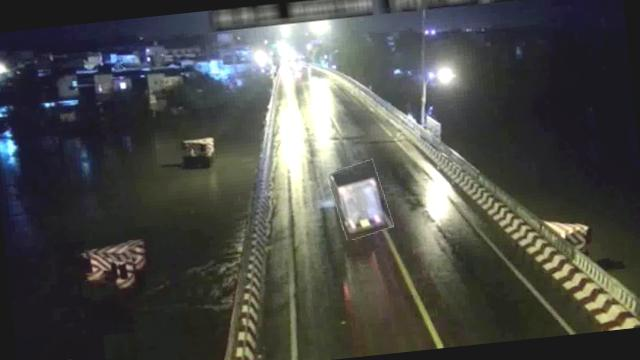Truck: (329, 160, 392, 240)
